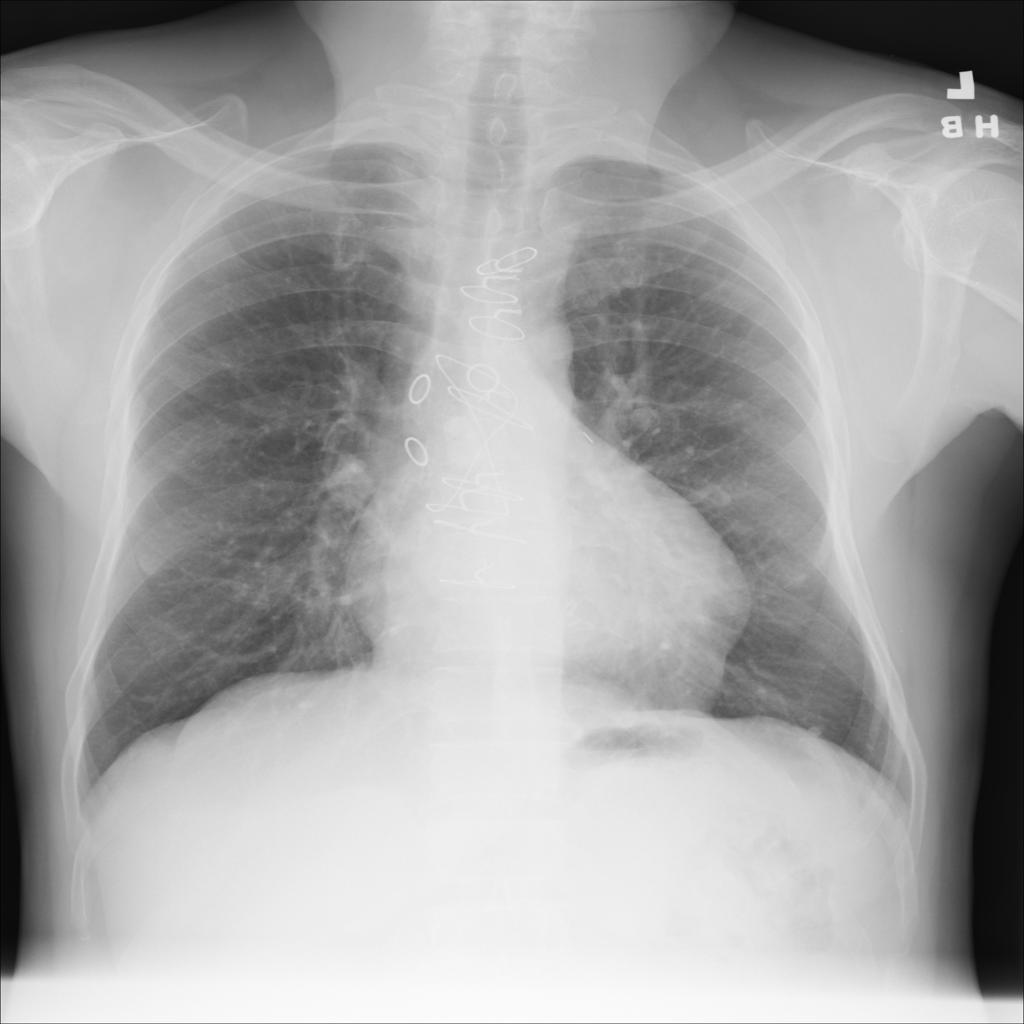nodule: (128, 534, 183, 585)
